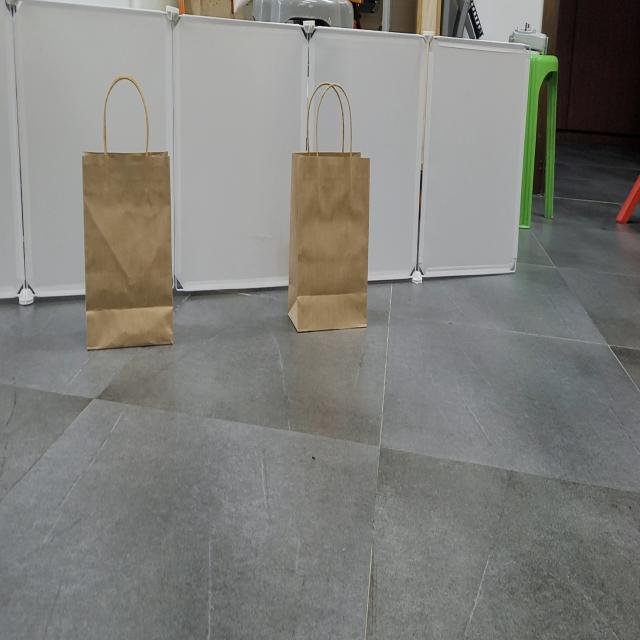paper bag: (81, 71, 173, 353), (286, 80, 370, 332)
